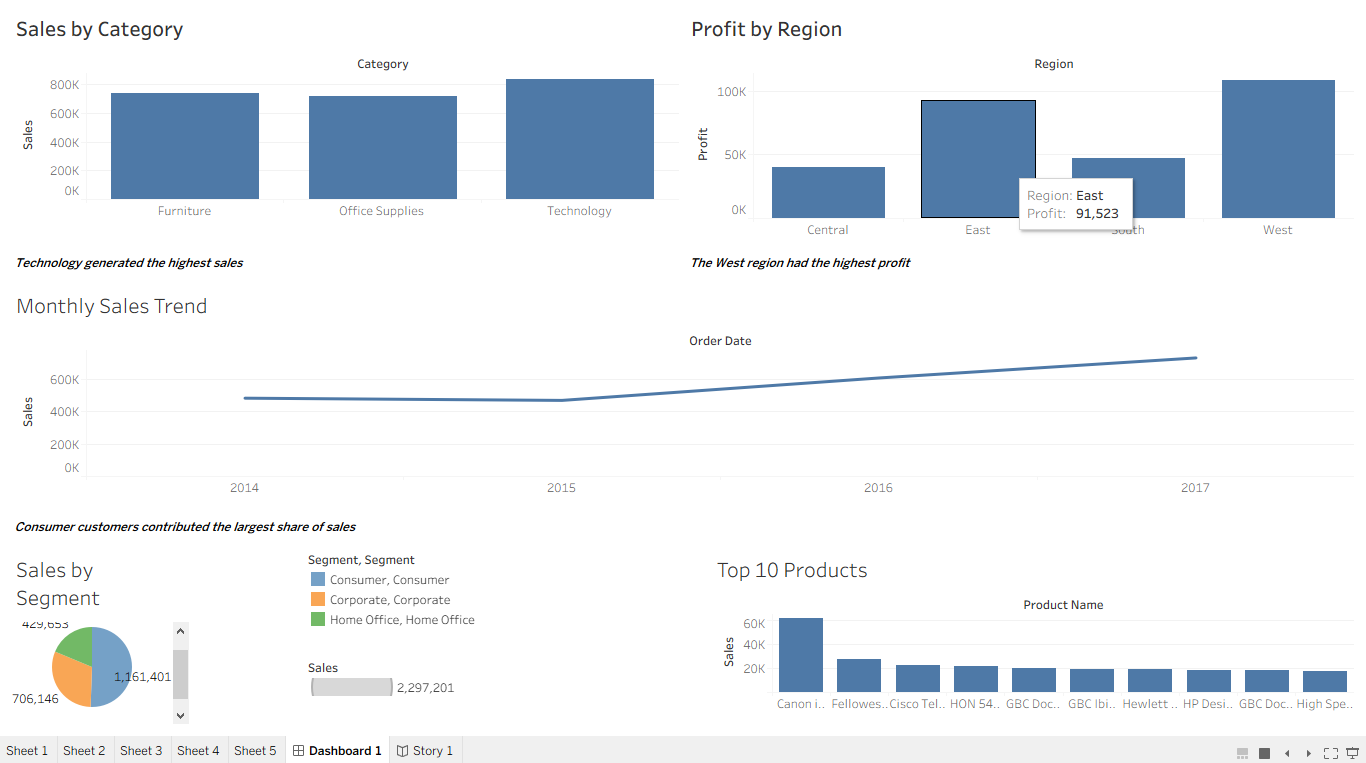

Layout of this report page (visuals, bound fields, positions):
{"tool":"tableau","page":{"name":"Dashboard 1","canvas":[1000,1000],"units":"permille","ordinal":0},"visuals":[{"type":"worksheet","title":"Sheet 1","mark":"Automatic","rows":["Sales"],"cols":["Category"],"box":[6.9,13.5,493,319.2]},{"type":"worksheet","title":"Sheet 2","mark":"Automatic","rows":["Profit"],"cols":["Region"],"box":[499.9,13.5,493.1,319.2]},{"type":"text","box":[6.9,332.8,493,54]},{"type":"text","box":[499.9,332.8,493.1,54]},{"type":"worksheet","title":"Sheet 3","mark":"Automatic","rows":["Sales"],"cols":["Order Date"],"box":[6.9,386.8,986.1,302.4]},{"type":"text","box":[6.9,689.2,986.1,54.1]},{"type":"worksheet","title":"Sheet 4","mark":"Pie","box":[6.9,743.2,216.4,243.3]},{"type":"legend","title":"Sheet 4","param":"[federated.1vfy3wk04d27hg14gtvum1pn545u].[none:Segment:nk]\n[federated.1vfy3wk04d","box":[223.4,743.2,295.4,145.3]},{"type":"worksheet","title":"Sheet 5","mark":"Automatic","rows":["Sales"],"cols":["Product Name"],"box":[518.8,743.2,474.3,243.3]},{"type":"legend","title":"Sheet 4","param":"[federated.1vfy3wk04d27hg14gtvum1pn545u].[sum:Sales:qk]","box":[223.4,888.5,295.4,98]}]}

Visuals, with their boxes on the dashboard's canvas, which has no fixed pixel size, in thousandths of its width and height (x1, y1, x2, y2). These are canvas units, not pixel positions in the 1366x763 screenshot, which may show the page scaled, cropped or inside an application window:
"Sheet 1" worksheet: (x1=7, y1=14, x2=500, y2=333)
"Sheet 2" worksheet: (x1=500, y1=14, x2=993, y2=333)
text: (x1=7, y1=333, x2=500, y2=387)
text: (x1=500, y1=333, x2=993, y2=387)
"Sheet 3" worksheet: (x1=7, y1=387, x2=993, y2=689)
text: (x1=7, y1=689, x2=993, y2=743)
"Sheet 4" worksheet (Pie marks): (x1=7, y1=743, x2=223, y2=986)
"Sheet 4" legend: (x1=223, y1=743, x2=519, y2=888)
"Sheet 5" worksheet: (x1=519, y1=743, x2=993, y2=986)
"Sheet 4" legend: (x1=223, y1=888, x2=519, y2=986)
